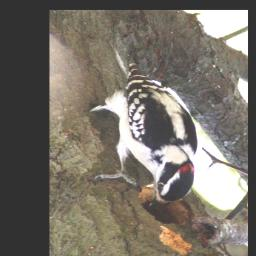Woodpecker: (90, 53, 197, 209)
